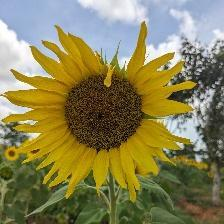sunflower: (17, 28, 197, 197)
